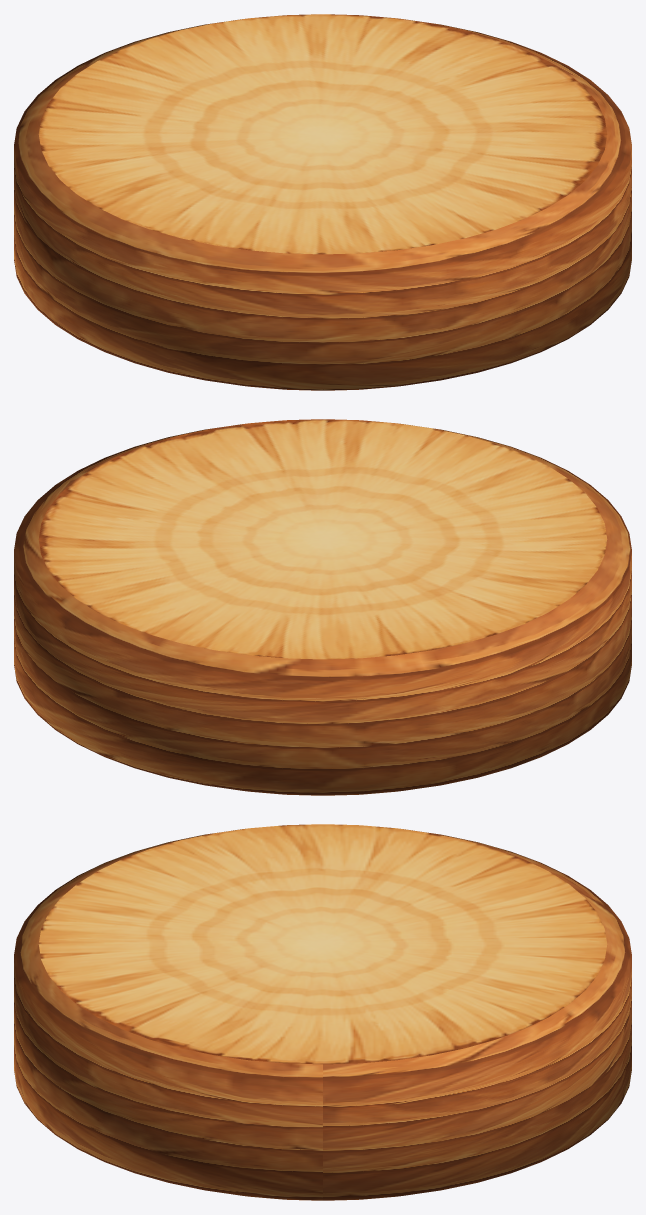
Rendered from palm_log_wide-CdtKIjhz.glb.
3 views of the same model, one above another, from view 1: azimuth 30°, elevation 25°; view 2: azimuth 150°, elevation 25°; view 3: azimuth 270°, elevation 25° (orthographic).
Visible parts, largest first — view 1: HI_palm_log_wide; view 2: HI_palm_log_wide; view 3: HI_palm_log_wide.
Boxes of the visible parts, x1=… form: HI_palm_log_wide: x1=14, y1=14, x2=631, y2=390; HI_palm_log_wide: x1=14, y1=419, x2=631, y2=795; HI_palm_log_wide: x1=14, y1=824, x2=631, y2=1200.
Bounding box in the file's own units: 1.15 × 0.28 × 1.15.
Materials: 1 (1 with a texture image).
